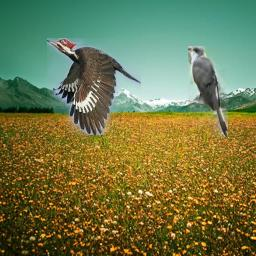Cuckoo: (188, 46, 228, 137)
Woodpecker: (47, 38, 141, 135)
